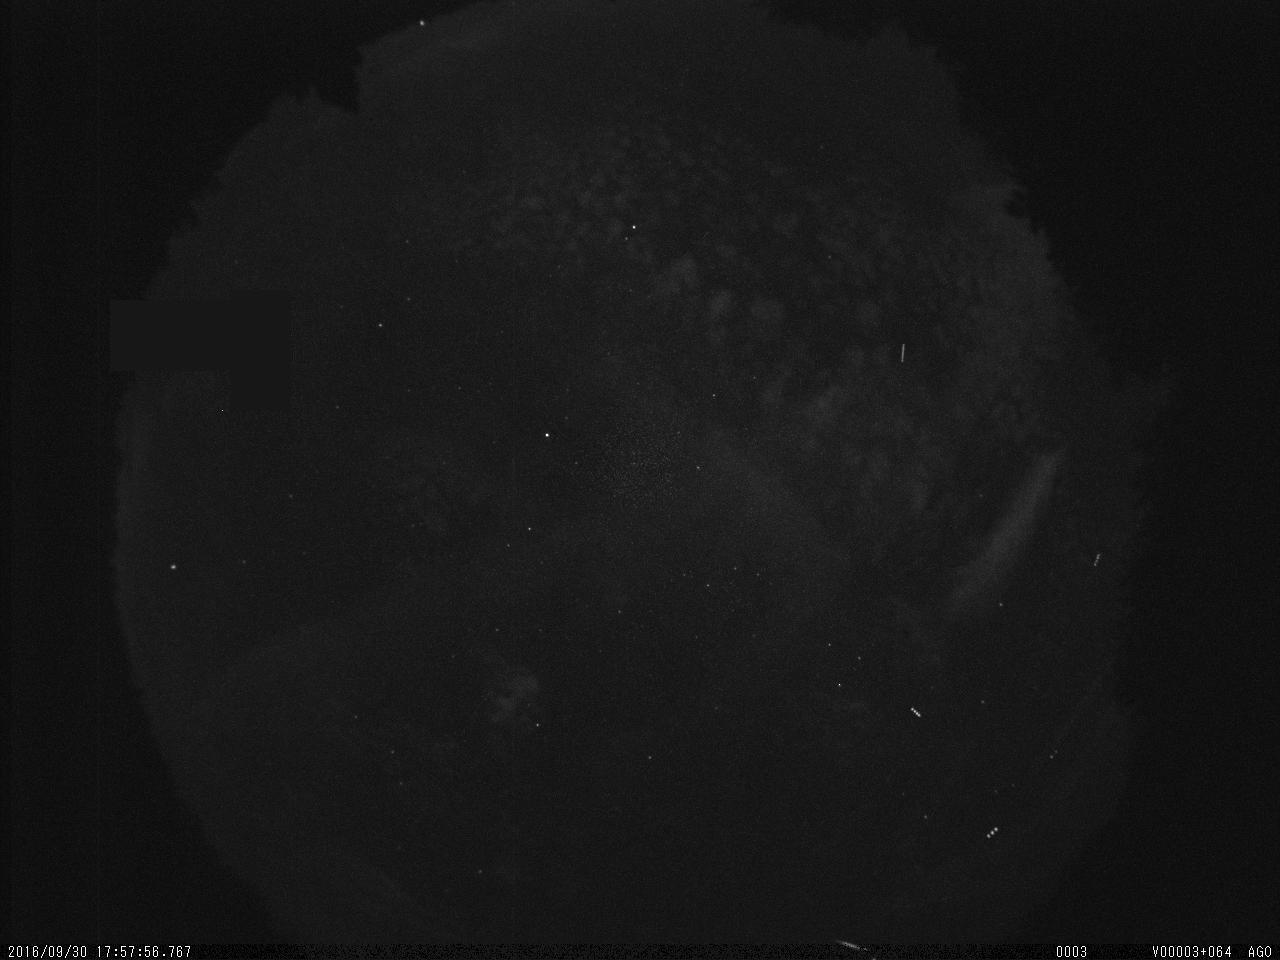satelite: (977, 820, 1005, 846), (904, 699, 924, 728), (895, 338, 912, 369)
